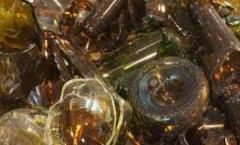glass: (130, 56, 211, 136), (45, 77, 117, 145)
